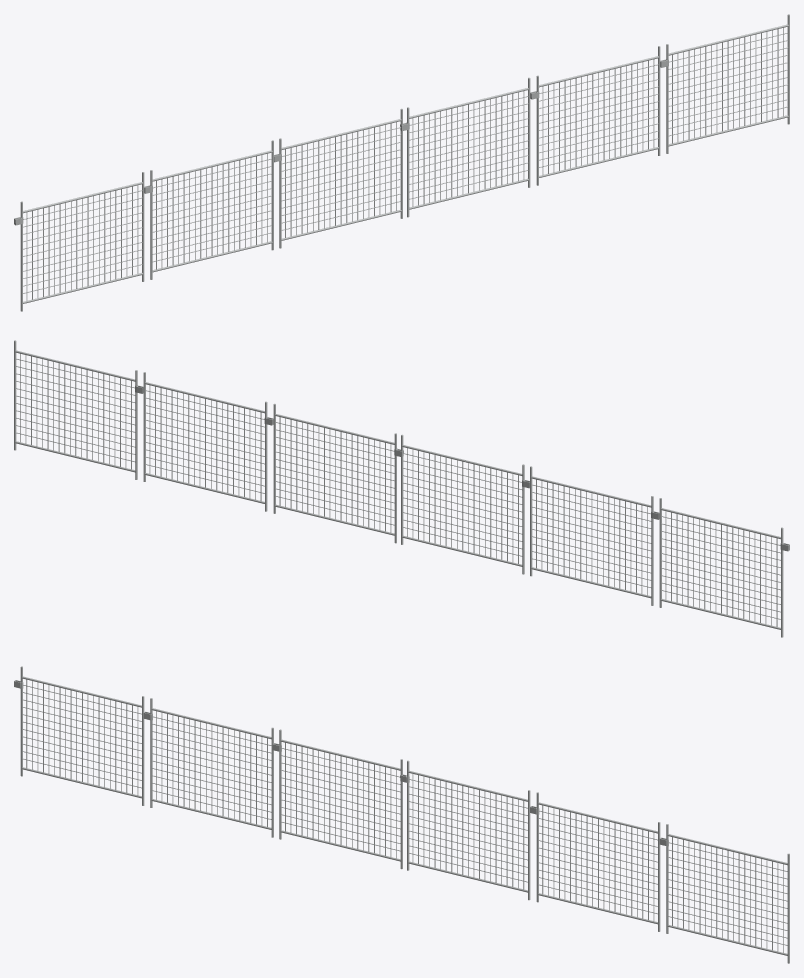
The model's file is fence.glb.
The picture shows the model from 3 angles, top to bottom: view 1: azimuth 30°, elevation 25°; view 2: azimuth 150°, elevation 25°; view 3: azimuth 330°, elevation 25°; orthographic projection.
Parts seen in each view (by area): view 1: Metal_fence.004, Metal_fence.006, Metal_fence.002, Metal_fence.003, Metal_fence.005, Metal_fence.001, Metal_fence; view 2: Metal_fence.006, Metal_fence.004, Metal_fence.005, Metal_fence.002, Metal_fence.003, Metal_fence.001, Metal_fence; view 3: Metal_fence.006, Metal_fence.004, Metal_fence.005, Metal_fence.002, Metal_fence.003, Metal_fence.001, Metal_fence.
Boxes of the visible parts, left/top/right/bottom form: Metal_fence.004: left=530, top=46, right=660, bottom=185; Metal_fence.006: left=14, top=172, right=144, bottom=311; Metal_fence.002: left=144, top=140, right=273, bottom=279; Metal_fence.003: left=274, top=108, right=402, bottom=248; Metal_fence.005: left=660, top=14, right=789, bottom=153; Metal_fence.001: left=466, top=77, right=530, bottom=195; Metal_fence: left=400, top=103, right=466, bottom=217; Metal_fence.006: left=659, top=498, right=789, bottom=637; Metal_fence.004: left=143, top=372, right=273, bottom=511; Metal_fence.005: left=14, top=340, right=143, bottom=479; Metal_fence.002: left=530, top=466, right=659, bottom=605; Metal_fence.003: left=401, top=434, right=529, bottom=574; Metal_fence.001: left=273, top=403, right=338, bottom=521; Metal_fence: left=337, top=429, right=403, bottom=543; Metal_fence.006: left=14, top=666, right=144, bottom=805; Metal_fence.004: left=530, top=792, right=660, bottom=931; Metal_fence.005: left=659, top=824, right=789, bottom=963; Metal_fence.002: left=143, top=698, right=273, bottom=837; Metal_fence.003: left=272, top=729, right=402, bottom=869; Metal_fence.001: left=465, top=784, right=530, bottom=900; Metal_fence: left=400, top=760, right=465, bottom=877.
Size of the model in its own units: 15.37 by 2.07 by 0.0597.
6 materials, 6 textured.
